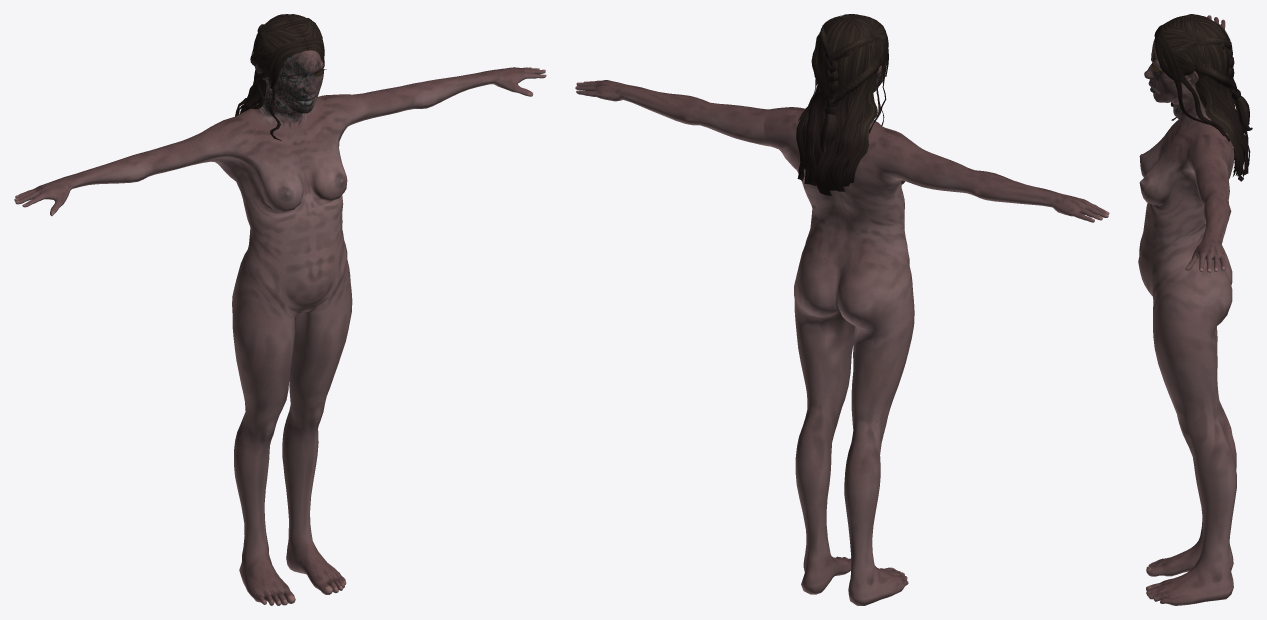
File: peluca3.obj
The picture shows the model from 3 angles, left to right: view 1: azimuth 30°, elevation 25°; view 2: azimuth 150°, elevation 25°; view 3: azimuth 270°, elevation 25°; orthographic projection.
Visible parts, largest first — view 1: Body, Hair; view 2: Body, Hair; view 3: Body, Hair.
Part boxes in pixels (x1,y1,x2,y2): Body: (14, 50, 546, 605); Hair: (235, 14, 324, 140); Body: (575, 51, 1109, 605); Hair: (796, 14, 888, 195); Body: (1138, 15, 1236, 605); Hair: (1154, 14, 1252, 181).
Size of the model in its own units: 174 by 178 by 32.58.
2 materials, 2 textured.
